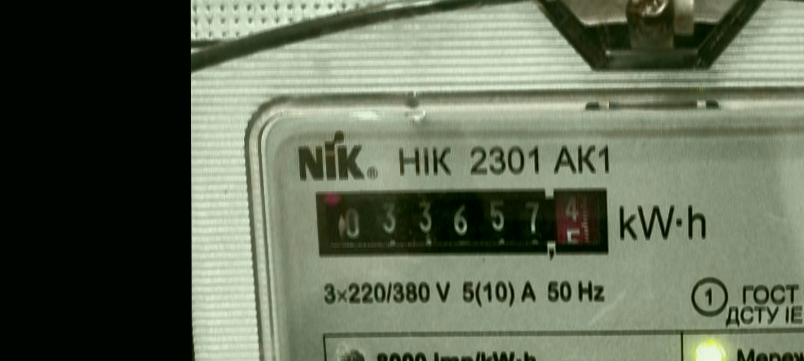0: (339, 204, 360, 241)
3: (377, 200, 396, 235), (413, 199, 431, 234)
4: (560, 194, 579, 224)
5: (483, 197, 505, 233)
6: (447, 202, 467, 237)
7: (520, 199, 538, 235)
screen: (301, 182, 614, 264)
